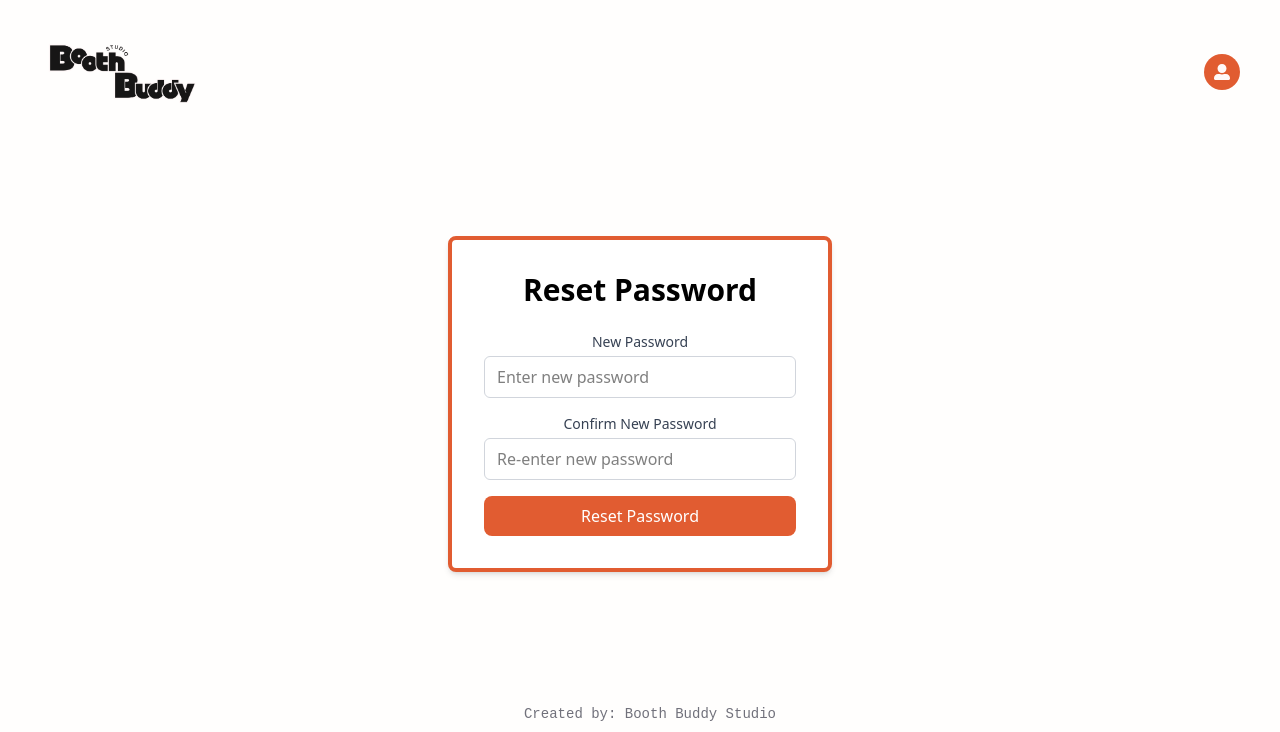
Scenario: ResetPasswordPage Component › should show error when fields are empty
The width and height of the screenshot is (1280, 732).
Click the button "Reset Password": x=640, y=516 x1=484 y1=496 x2=796 y2=536
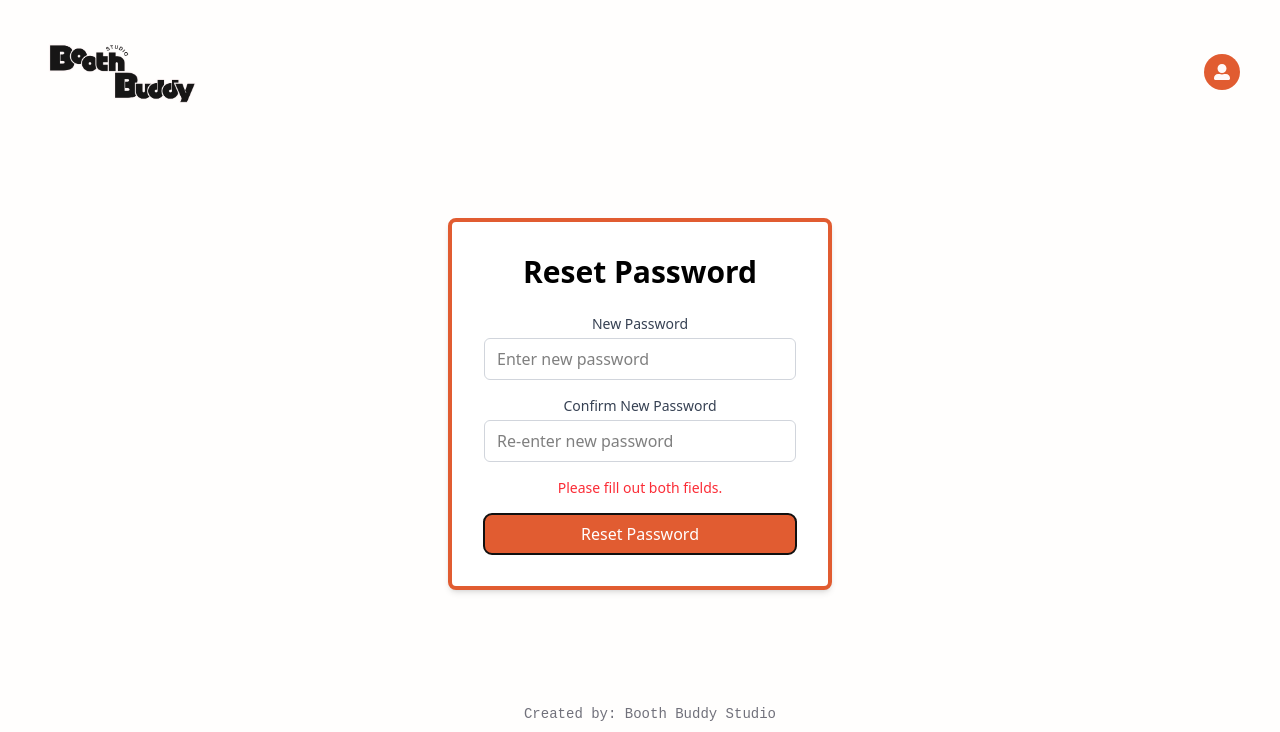
Check: the text "Please fill out both fields." is shown, box x1=558 y1=478 x2=722 y2=497
